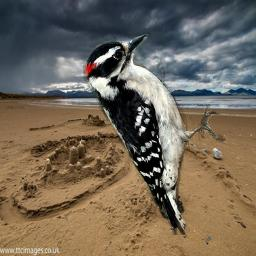Woodpecker: (83, 34, 229, 235)
